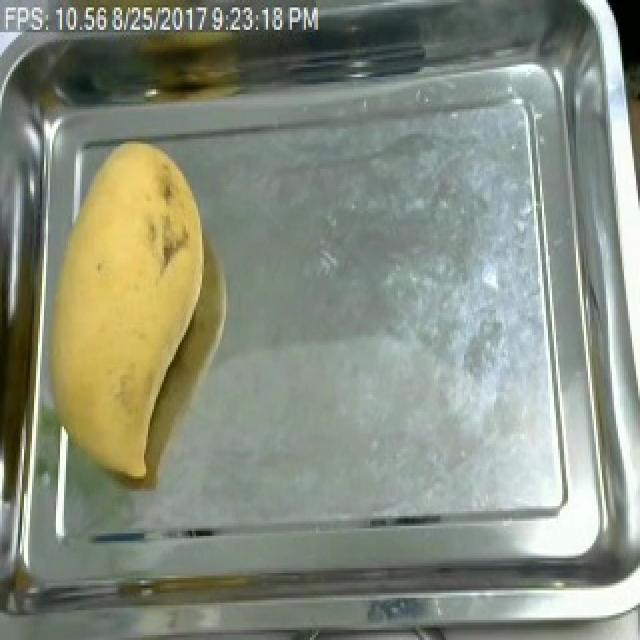fruit: (8, 132, 226, 508)
